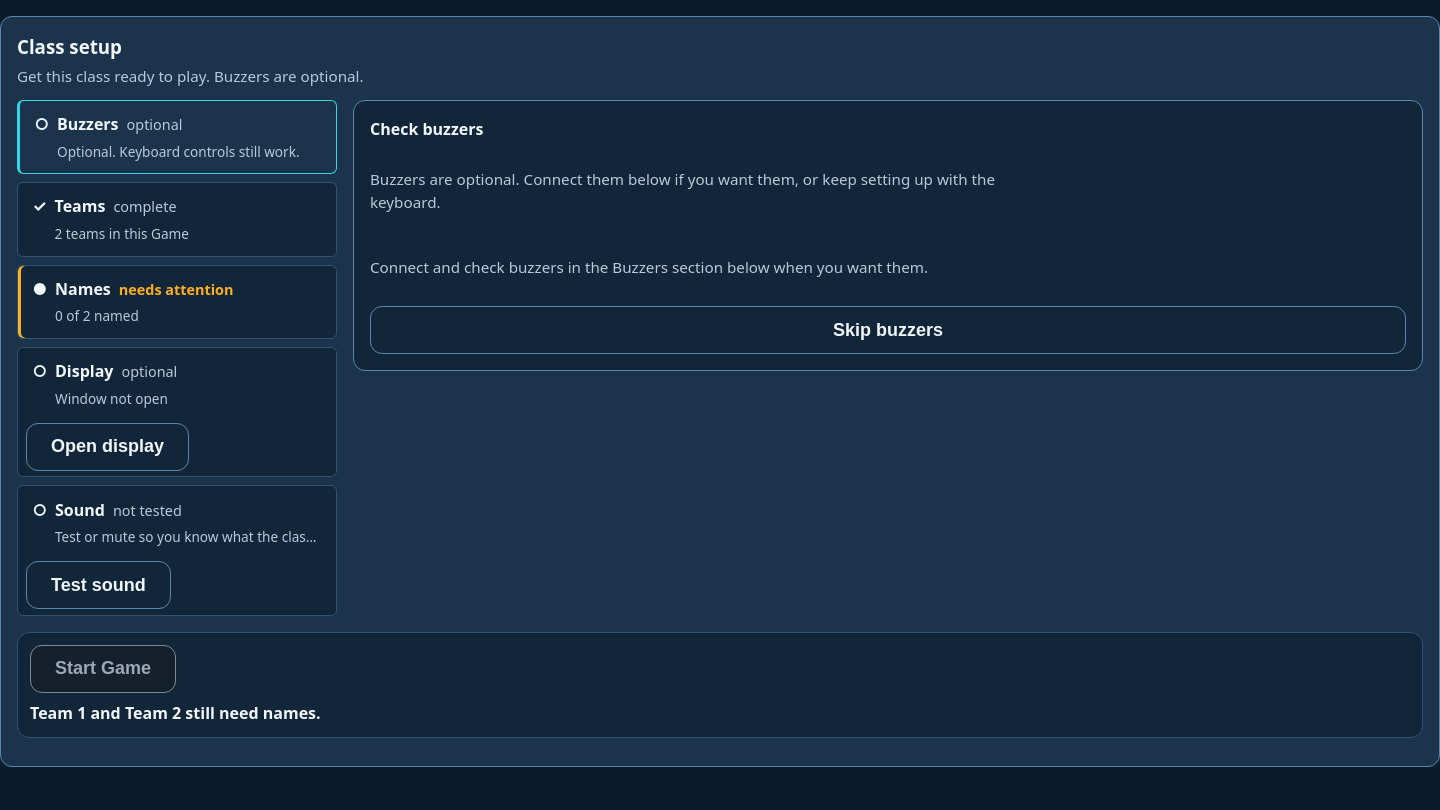
Test: ClassroomSetupPanel › CANON-H-01: Game-default titles do not look named while the Names gate blocks Start
This screenshot has width=1440, height=810.
Click the button with test id "readiness-names": (83, 289) [26,271,328,332]
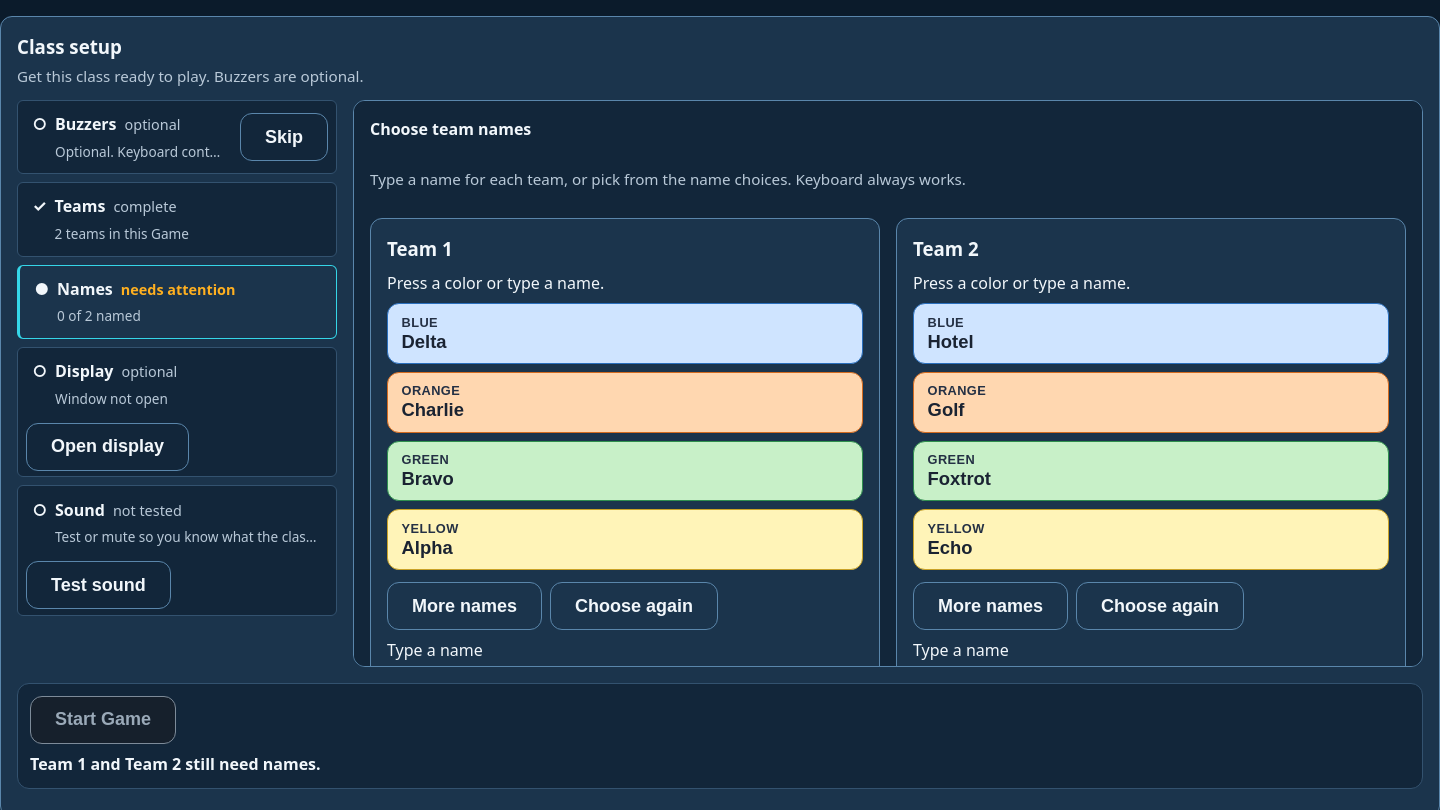
Result: the element with test id "setup-names-task" is shown at [370,153,1406,667]
Result: the heading with class "tnsb__title" reads "Team 1" at [387,236,453,261]
Result: the heading with class "tnsb__title" reads "Team 2" at [913,236,979,261]
